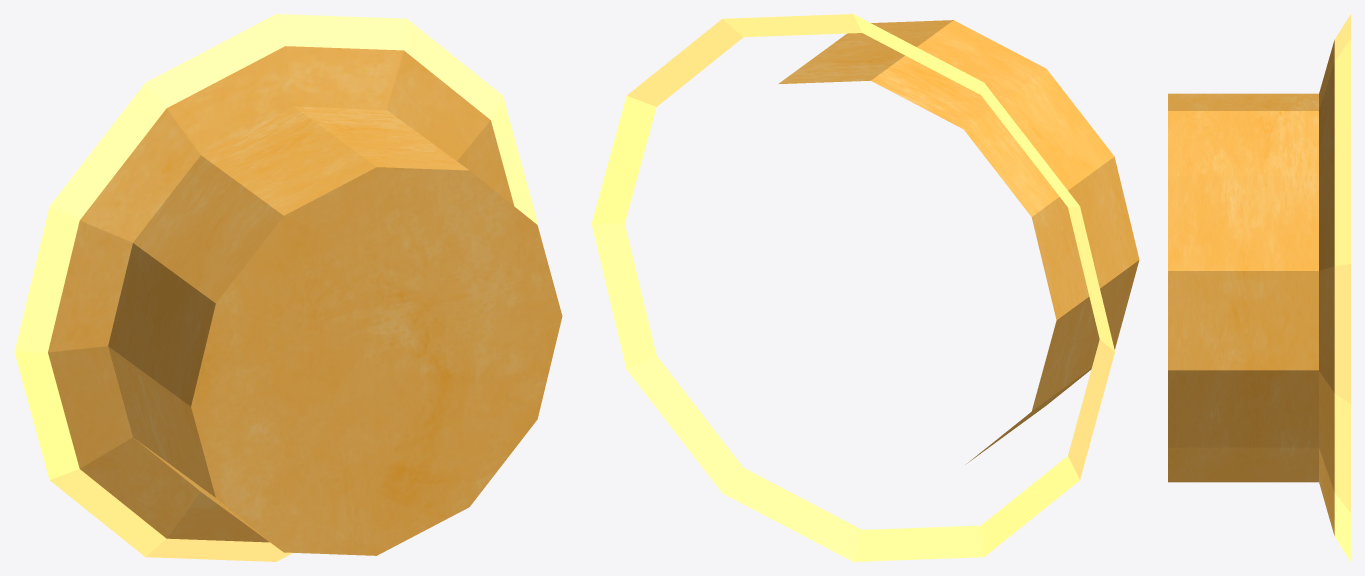
The model's file is elevatorButton.glb.
The picture shows the model from 3 angles, left to right: view 1: azimuth 30°, elevation 25°; view 2: azimuth 150°, elevation 25°; view 3: azimuth 270°, elevation 25°; orthographic projection. The views are drawn at different scales.
Visible parts, largest first — view 1: Cylinder.008; view 2: Cylinder.008; view 3: Cylinder.008.
Boxes of the visible parts, x1,y1,x2,y2 form: Cylinder.008: (14, 14, 562, 561); Cylinder.008: (591, 14, 1139, 561); Cylinder.008: (1168, 14, 1350, 561).
Bounding box in the file's own units: 0.4118 × 0.4118 × 0.1368.
Materials: 2 (1 with a texture image).
